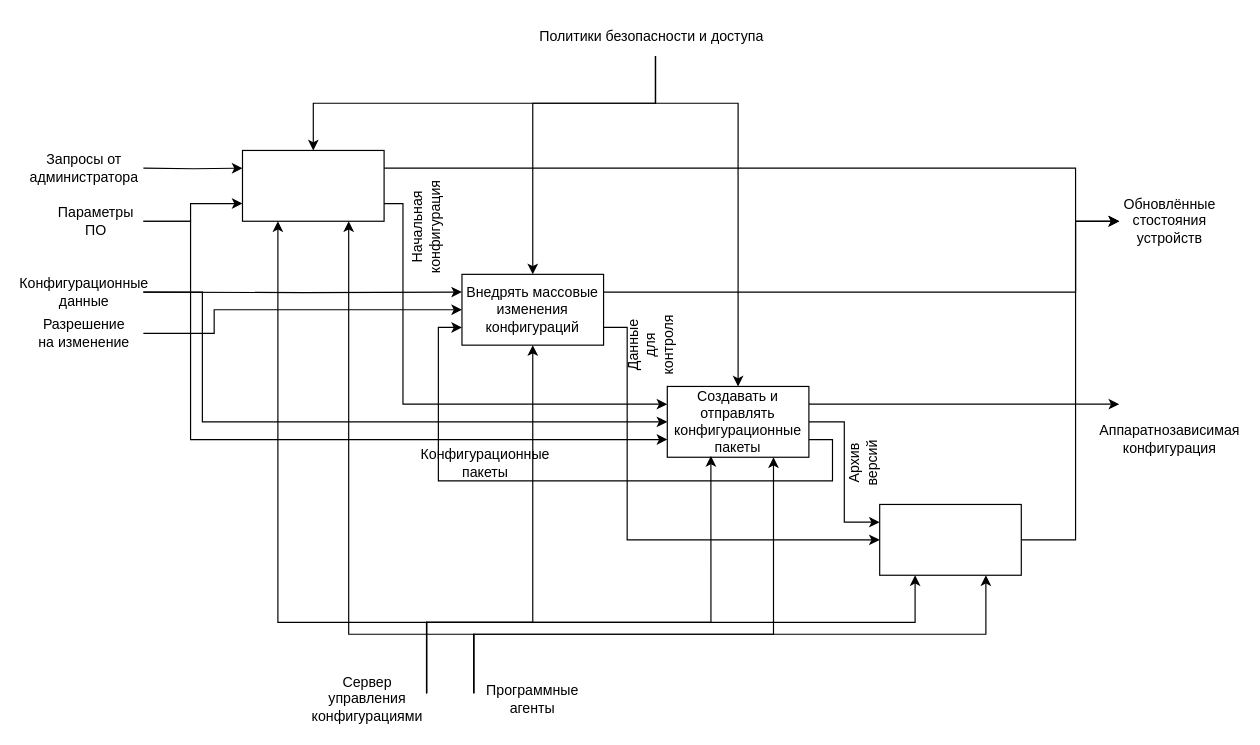
Image size: 1260x745. Some labels were removed from this diagram. The box of each missing label's shape, as (x1, y1, x2, y2) in pixels:
Отслеживать результаты и валидировать изменения: (879, 503, 1021, 575)
Подключить новое устройство к инфраструктуре управления: (241, 149, 384, 221)
